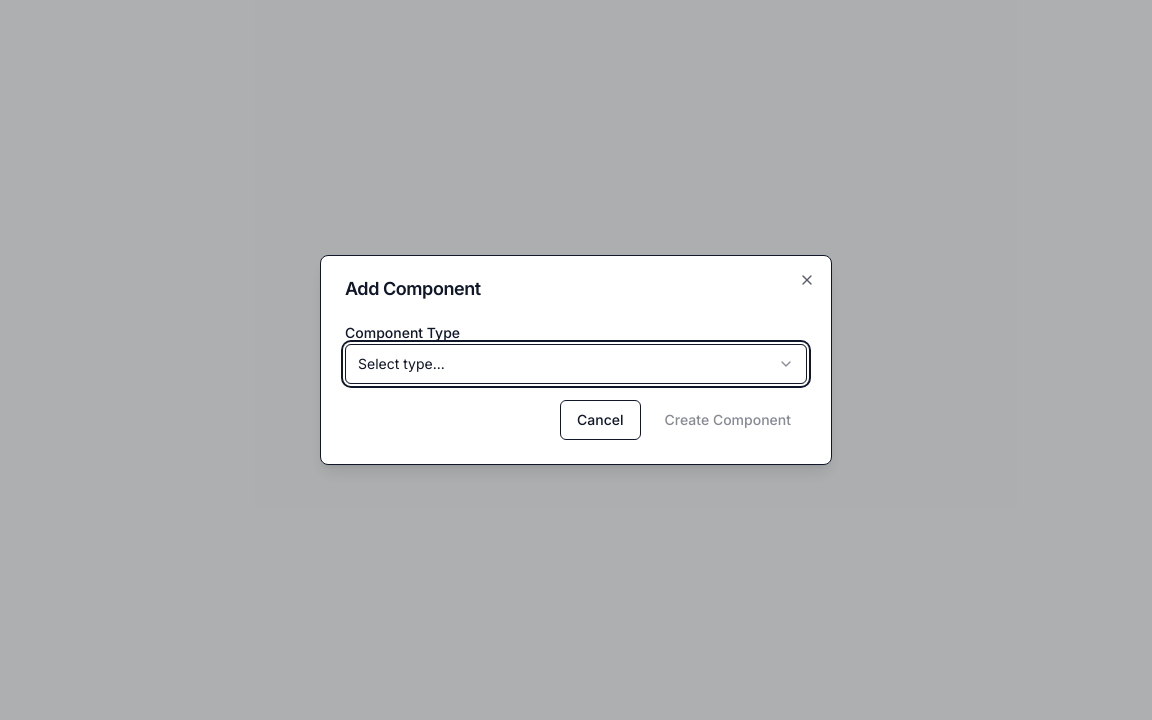
Test case: AddComponentModal › Type-specific form fields › shows commodity_code, size, total_linear_feet fields after selecting Pipe
Click the dropdown.
click(401, 364)  # box [345, 344, 807, 384]
(page scrolled)
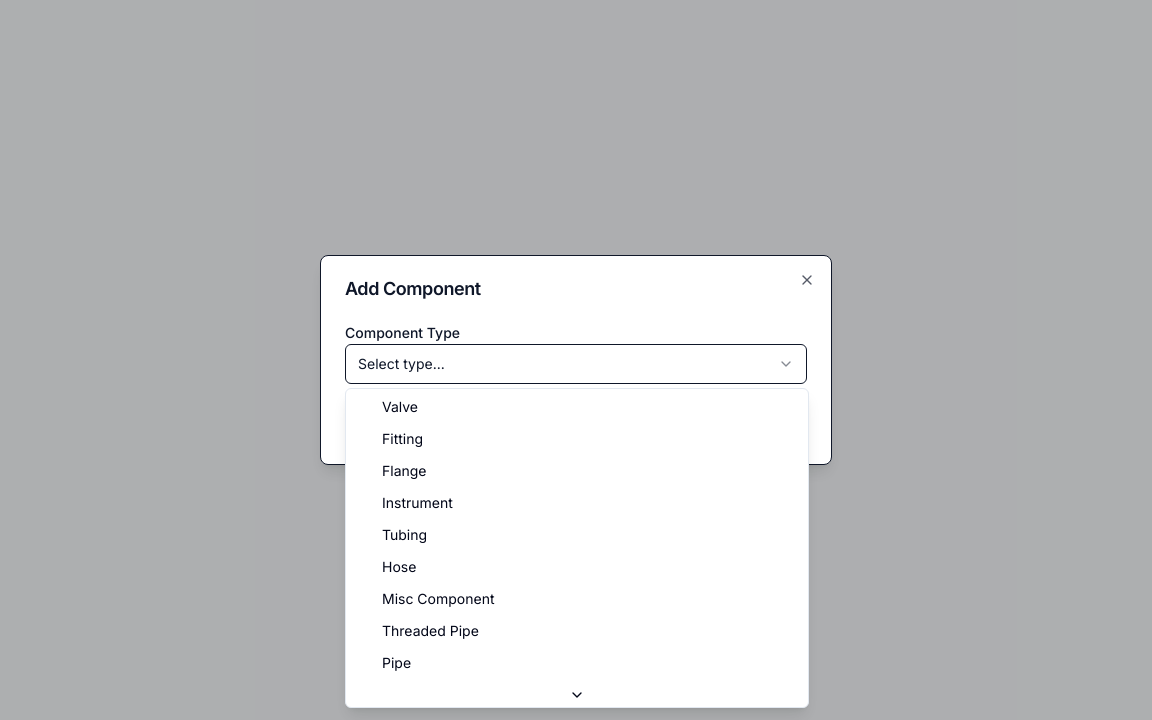
Click the option "Pipe".
click(397, 662)  # box [382, 654, 411, 671]
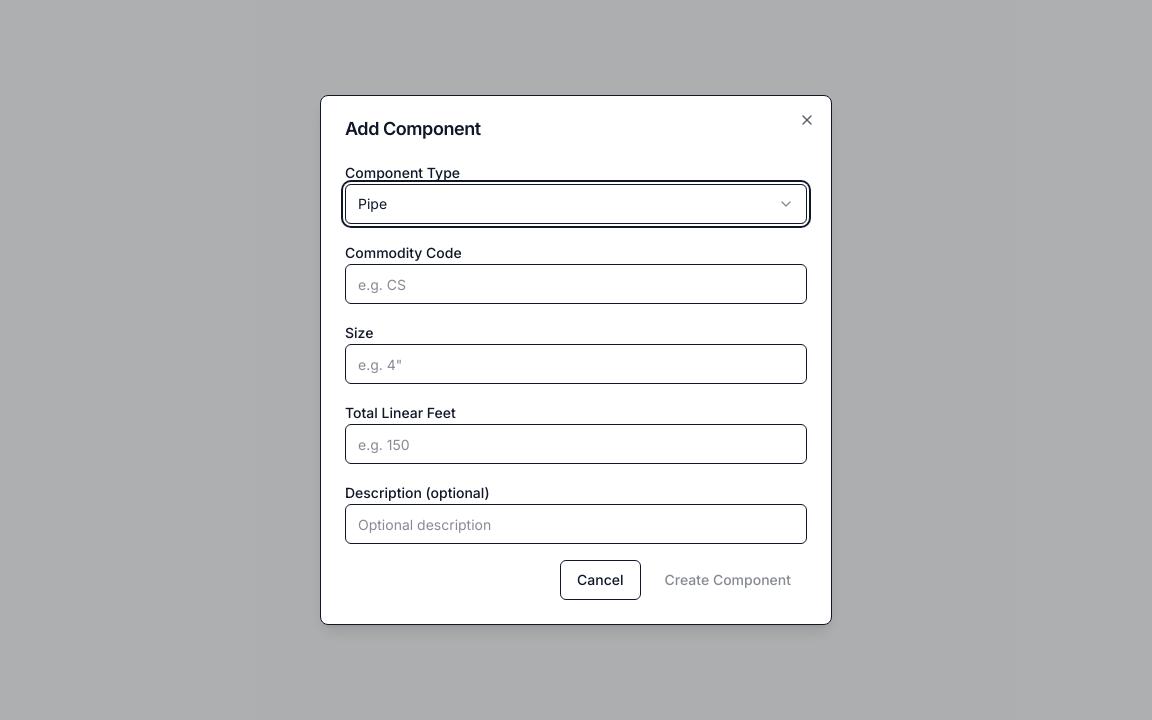
Now the field labelled "Commodity Code" is shown, box [345, 264, 807, 304]
Now the field labelled "Size" is shown, box [345, 344, 807, 384]
Now the number field labelled "Total Linear Feet" is shown, box [345, 424, 807, 464]
